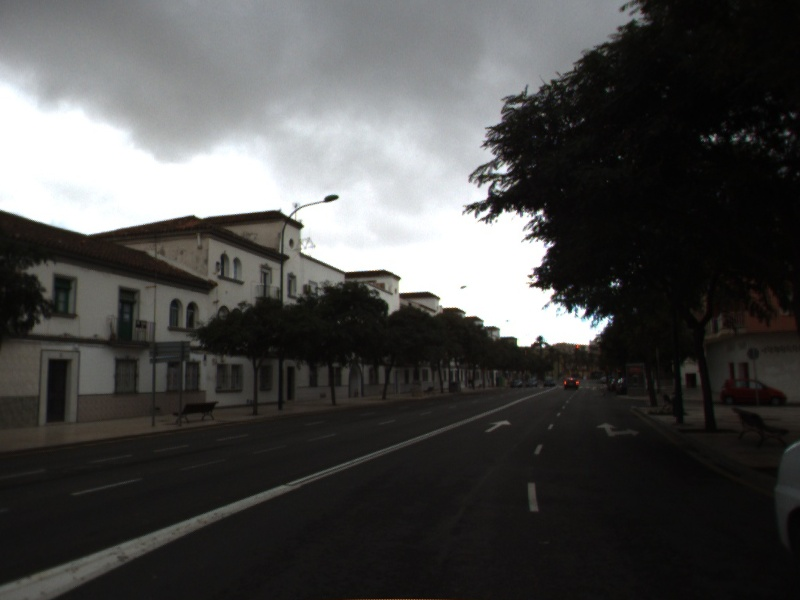STRAIGHT: (483, 418, 513, 433)
STRAIGHT_RIGHT: (595, 421, 641, 438)
